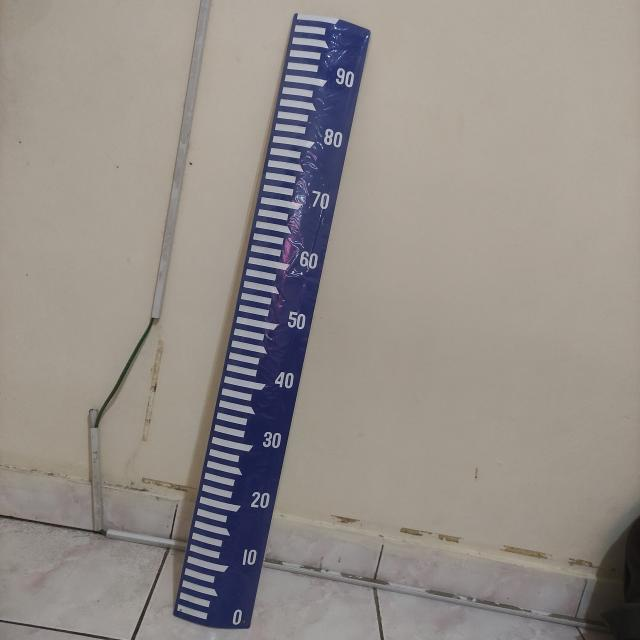ruler: (166, 12, 380, 630)
value: (326, 58, 362, 93), (315, 124, 348, 152), (282, 305, 312, 334), (304, 185, 336, 212), (291, 245, 323, 272), (246, 485, 274, 512), (256, 428, 286, 453), (272, 365, 298, 393), (239, 543, 261, 572)
